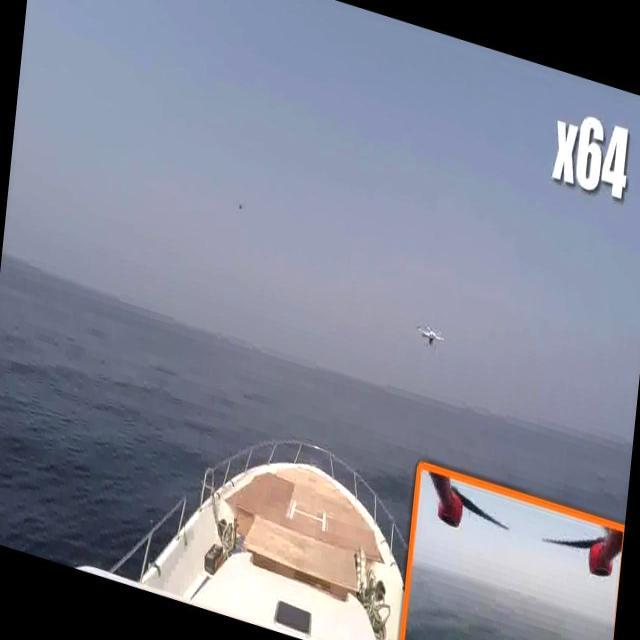drone: (410, 308, 452, 361), (232, 194, 252, 222)
